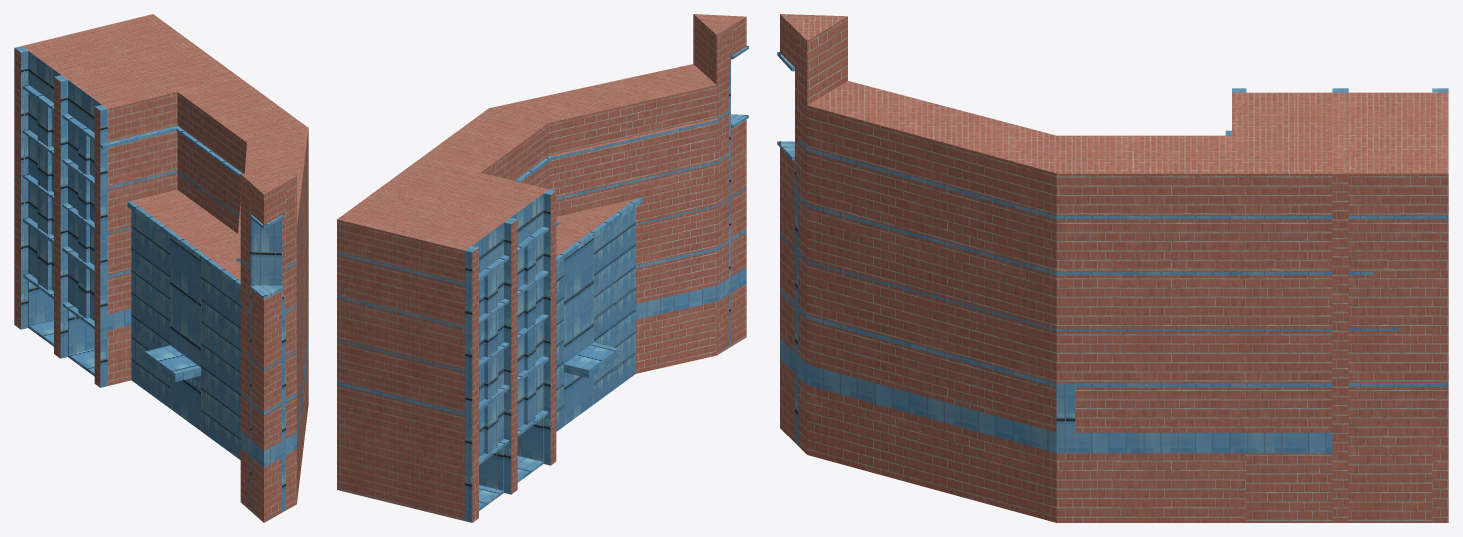
File: ictc_new_final2_textured_triangulated.obj
3 views of the same model, side by side, from view 1: azimuth 30°, elevation 25°; view 2: azimuth 150°, elevation 25°; view 3: azimuth 270°, elevation 25° (orthographic). The views are drawn at different scales.
Visible parts, largest first — view 1: Cube; view 2: Cube; view 3: Cube.
Part boxes in pixels (x1,y1,x2,y2): Cube: [14, 14, 308, 522]; Cube: [337, 14, 748, 522]; Cube: [777, 14, 1448, 522].
Size of the model in its own units: 2.9 by 5.85 by 8.6.
2 materials, 2 textured.
